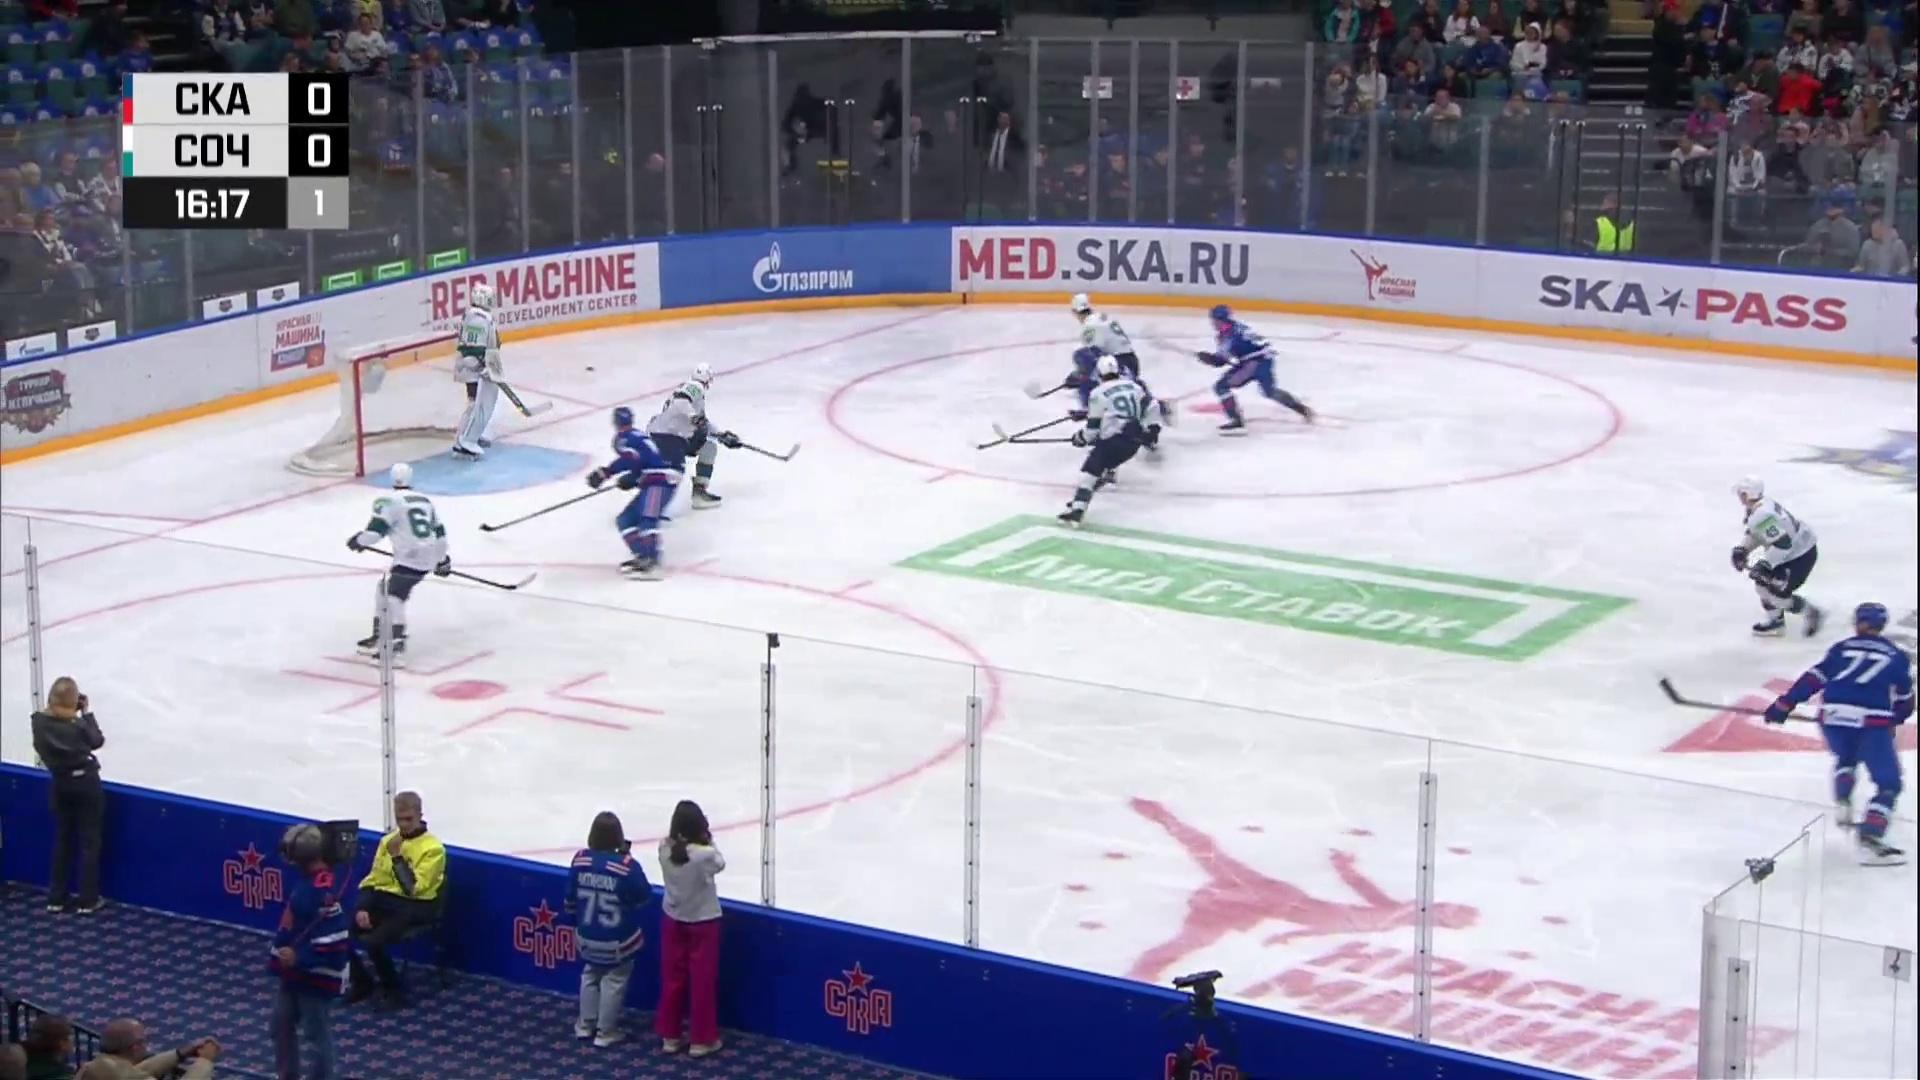ball: (585, 365, 595, 372)
